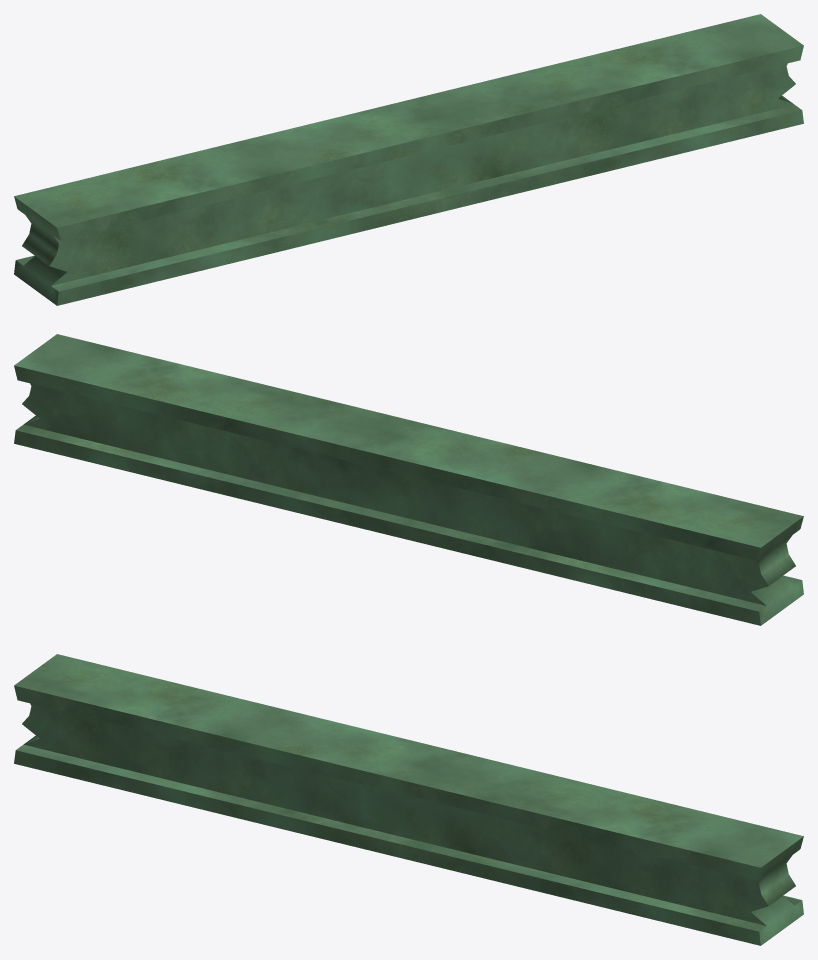
Rendered from Beam_Broken_Metal.FBX.
3 renders of one model, top to bottom at view 1: azimuth 30°, elevation 25°; view 2: azimuth 150°, elevation 25°; view 3: azimuth 330°, elevation 25°, orthographic.
Visible parts, largest first — view 1: Box033; view 2: Box033; view 3: Box033.
Boxes of the visible parts, box(x1,y1,x2,y2) form: Box033: box(14, 14, 803, 305); Box033: box(14, 334, 803, 625); Box033: box(14, 654, 803, 945).
Size of the model in its own units: 300 by 30 by 30.
